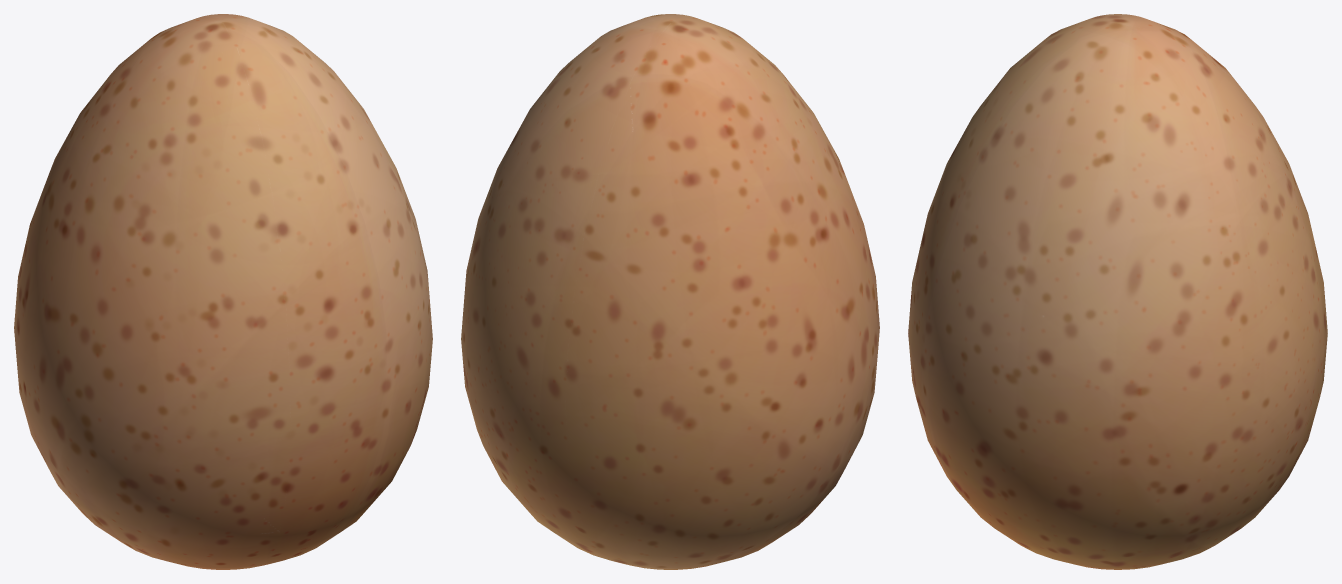
File: uovo 1.obj
3 views of the same model, side by side, from view 1: azimuth 30°, elevation 25°; view 2: azimuth 150°, elevation 25°; view 3: azimuth 270°, elevation 25° (orthographic).
Parts seen in each view (by area): view 1: Sphere; view 2: Sphere; view 3: Sphere.
Boxes of the visible parts, left/top/right/bottom form: Sphere: left=14, top=14, right=432, bottom=569; Sphere: left=461, top=14, right=879, bottom=569; Sphere: left=908, top=14, right=1327, bottom=569.
Size of the model in its own units: 2 by 2.77 by 2.
Materials: 1 (1 with a texture image).
